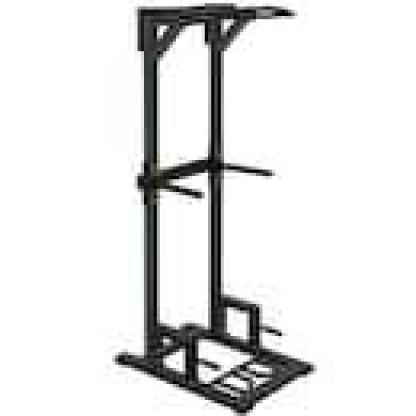chinning dipping: (115, 3, 315, 414)
